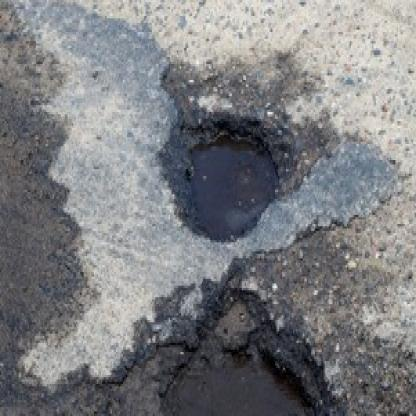pothole: (155, 288, 336, 416), (181, 112, 285, 245)
